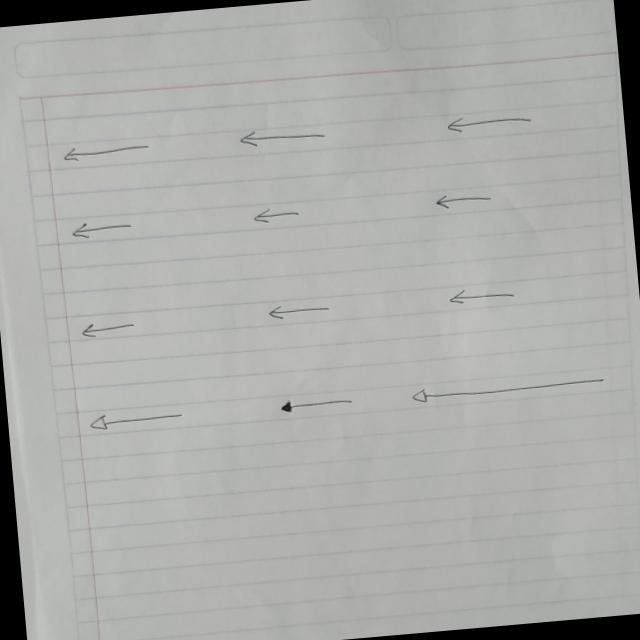arrow_line_left: (406, 367, 608, 407), (444, 105, 534, 138), (86, 405, 184, 434), (238, 120, 326, 152), (59, 136, 150, 164), (446, 279, 518, 309), (262, 296, 332, 324), (68, 215, 134, 243), (274, 392, 356, 414), (431, 186, 495, 212), (77, 316, 137, 340), (250, 201, 302, 227)
